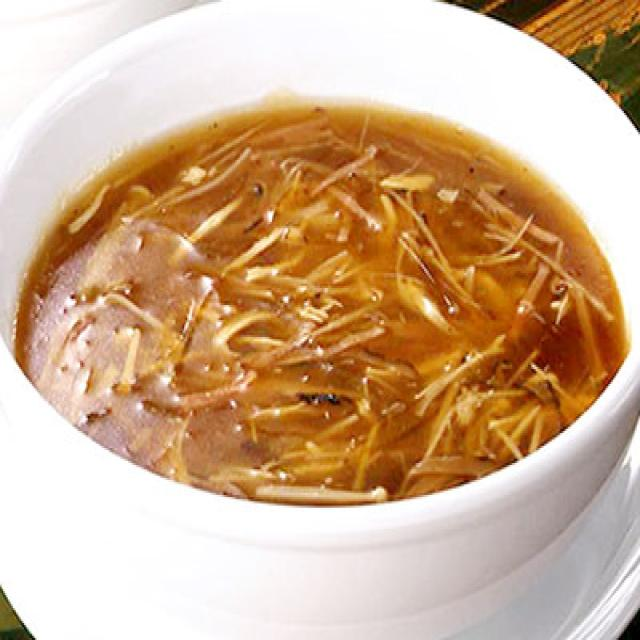汤锅炖物: (0, 2, 640, 595)
